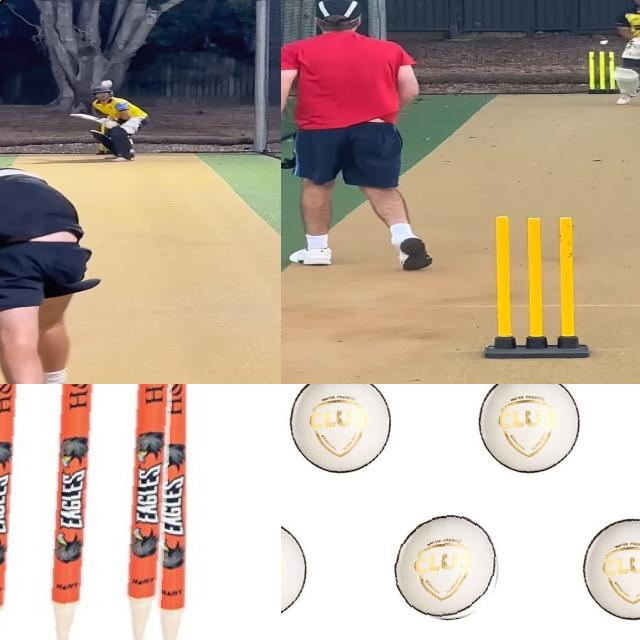Cricket ball: (394, 516, 503, 624), (283, 384, 397, 479), (473, 384, 584, 477), (576, 513, 640, 624), (281, 514, 309, 626), (100, 80, 114, 87), (598, 39, 611, 46)
Stumps: (0, 384, 191, 640), (481, 215, 592, 359), (586, 51, 618, 96)
